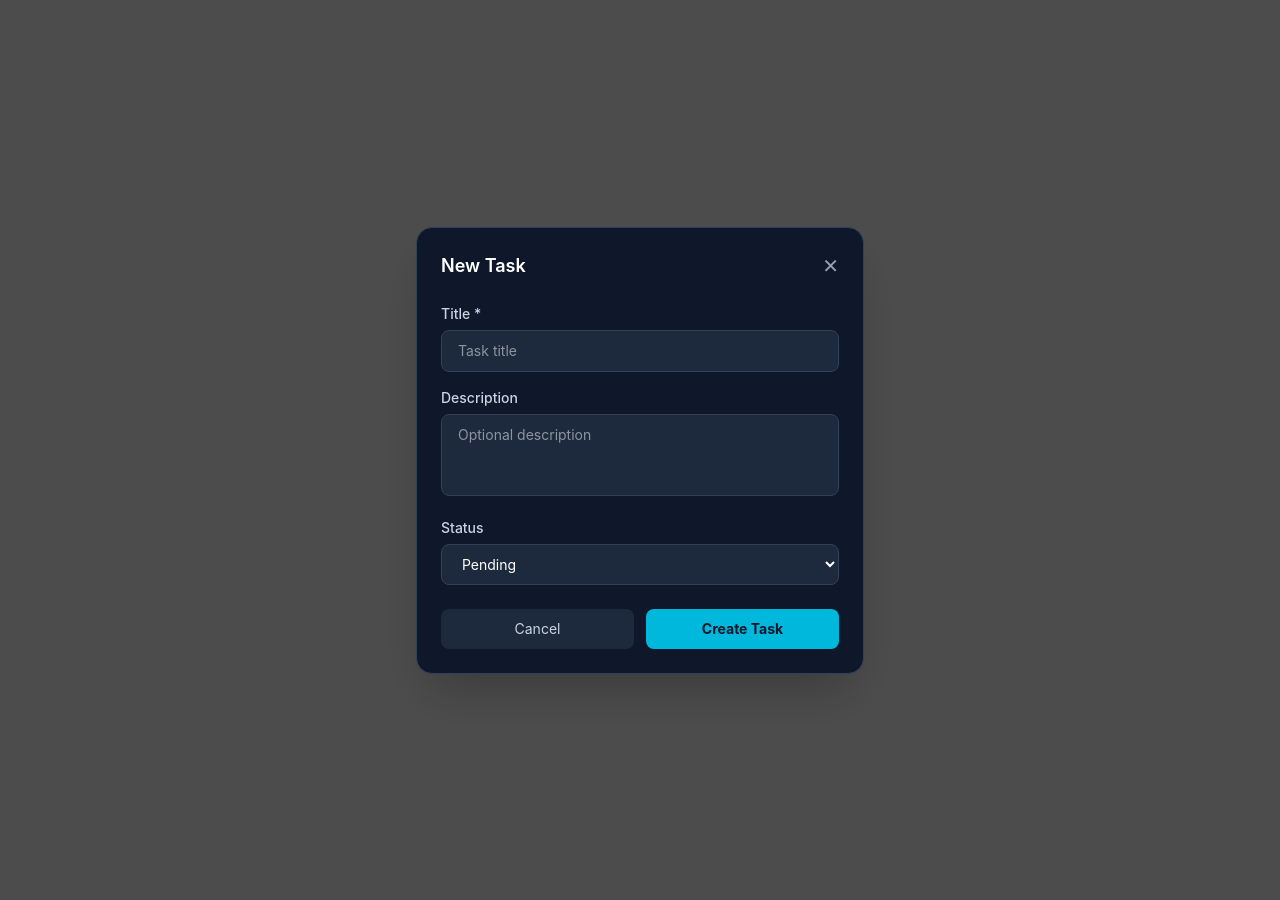
TaskModal Component › 3. shows validation error when submitting without title
Click the button "Create Task".
click(742, 628)  # box top-left (646, 608), bottom-right (839, 648)
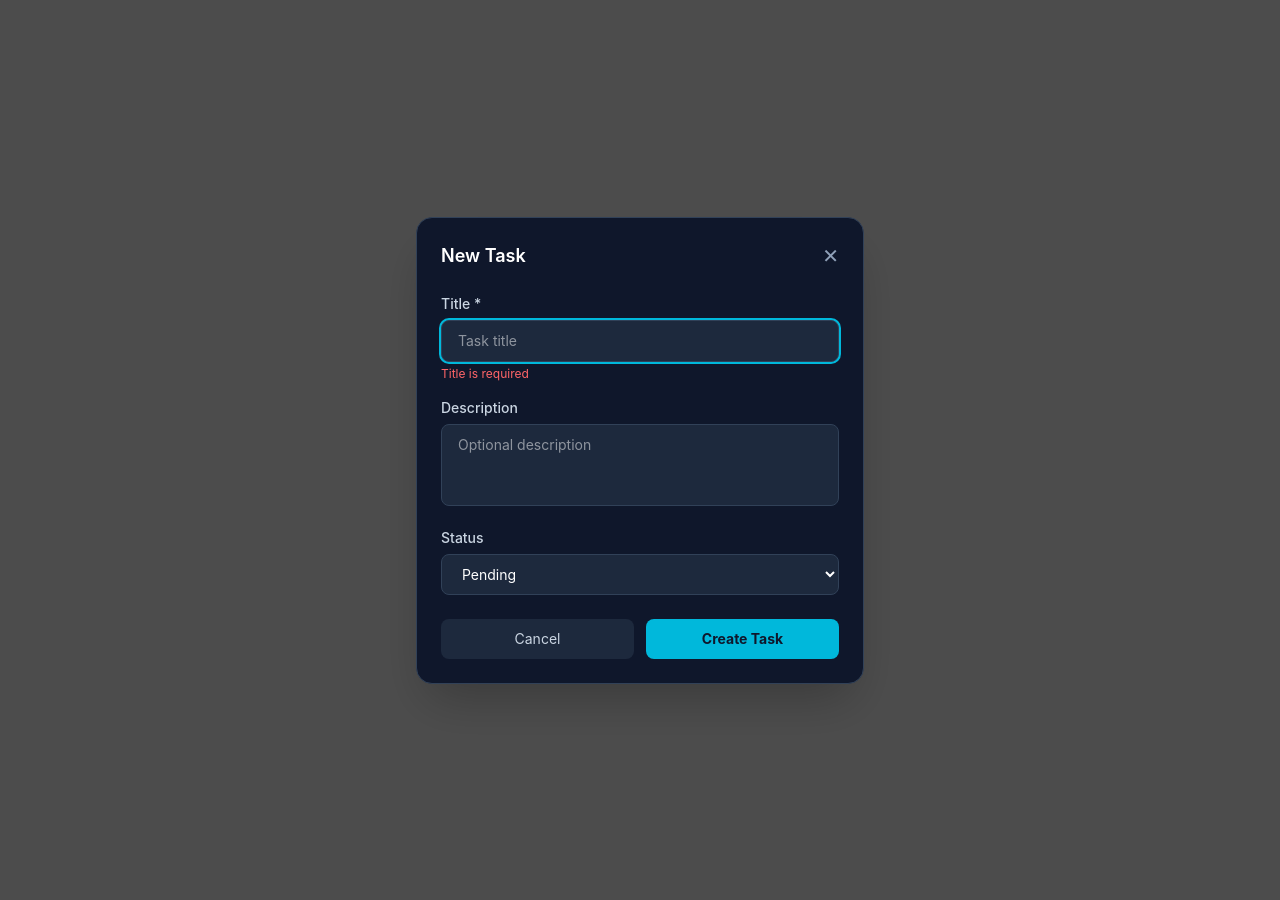
Expected: the text "Title is required" is shown, top-left (441, 366), bottom-right (529, 380)
